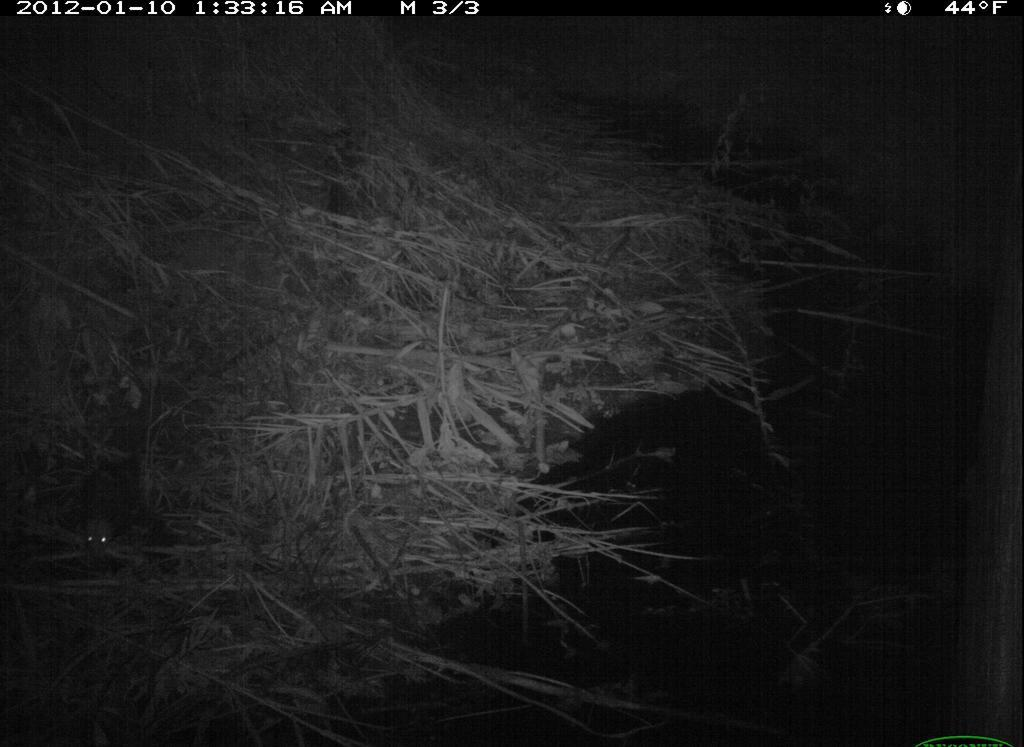opossum: (75, 451, 141, 561)
